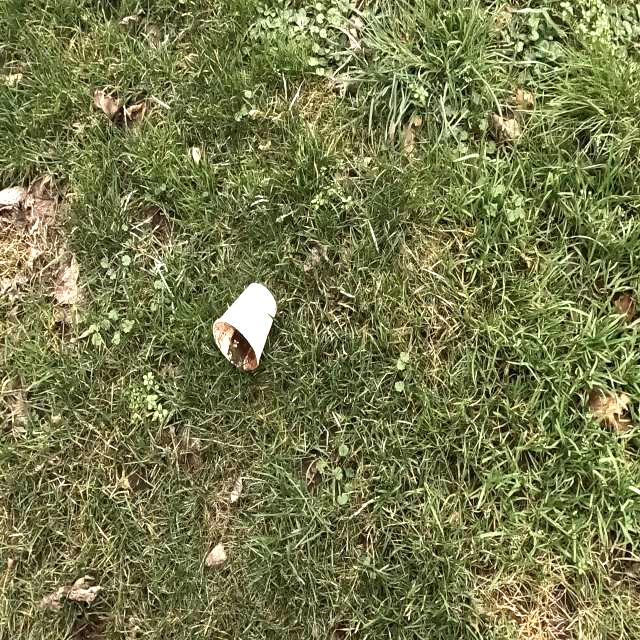Coffee Cup: (210, 280, 280, 374)
